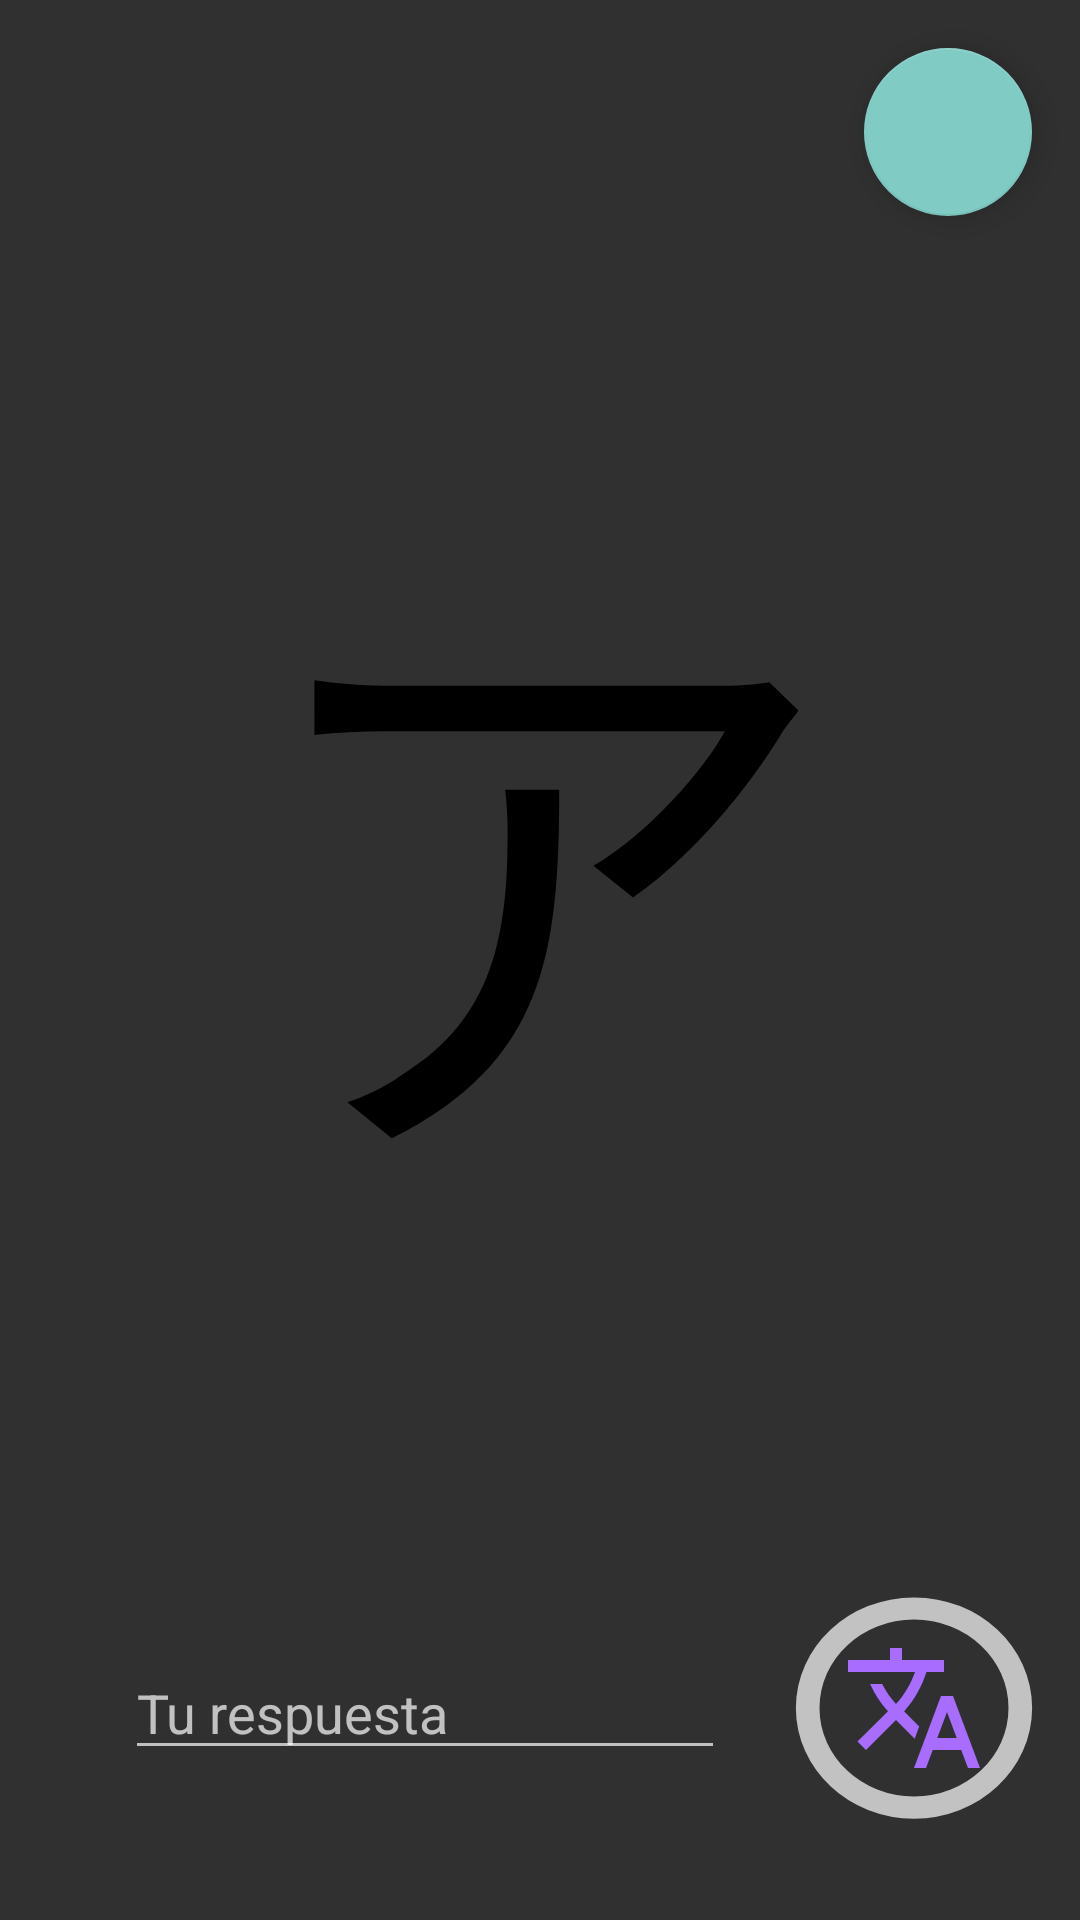

Icon bounding boxes for this 1080px x 1920px phone screenshot, format bbox(x1, y1, x2, y2):
translate: bbox(796, 1597, 1032, 1819)
